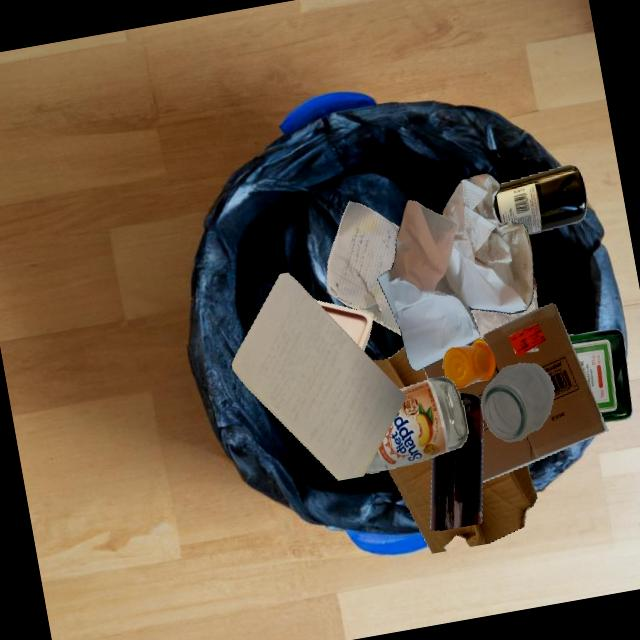cardboard: (456, 303, 608, 482), (387, 457, 537, 553)
combustible waste: (314, 299, 372, 351)
glass: (365, 376, 468, 473), (430, 392, 483, 530), (494, 164, 587, 235), (568, 329, 632, 422), (481, 362, 554, 441)
paper: (231, 272, 406, 480), (377, 173, 533, 370), (327, 201, 402, 336)
plastic: (470, 273, 538, 338), (442, 338, 496, 388)
